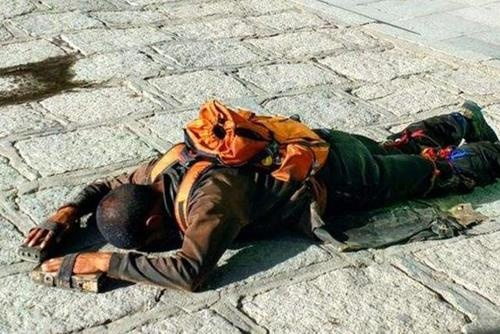falling: (25, 86, 500, 311)
